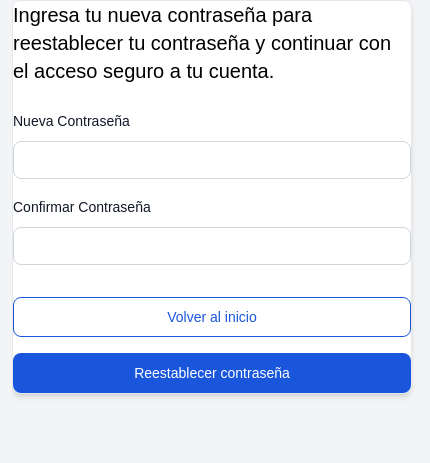
Test case: ResetPasswordCard › Form Validation › Given a user entering a password only lower case characters, show error validation to enter 1 upper case character
Type "alotofcharactersonpassword" into the password field with test id "password" at (212, 160), box [13,141,411,179]
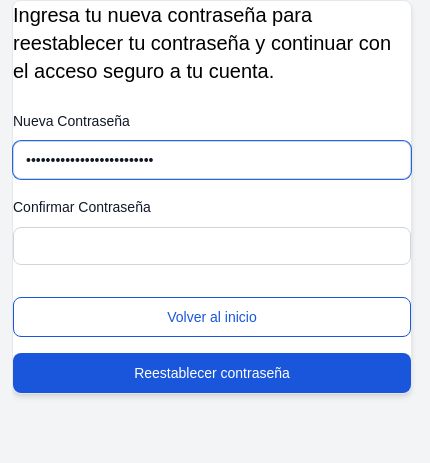
Click the button "Reestablecer contraseña" at (212, 373), box [13,353,411,393]
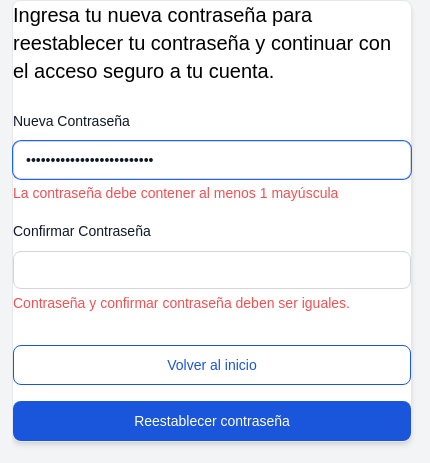
Now the text "La contraseña debe contener al menos 1 mayúscula" is shown, box [13,185,338,201]
